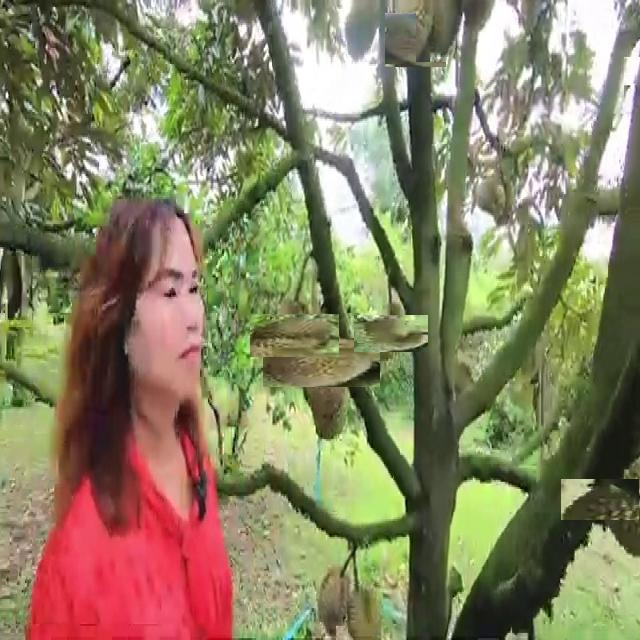durian: (280, 321, 363, 405), (579, 460, 640, 538), (372, 6, 440, 74), (261, 303, 328, 369), (362, 305, 418, 362), (339, 0, 385, 69), (315, 557, 355, 636), (416, 0, 466, 62), (348, 584, 388, 638)
